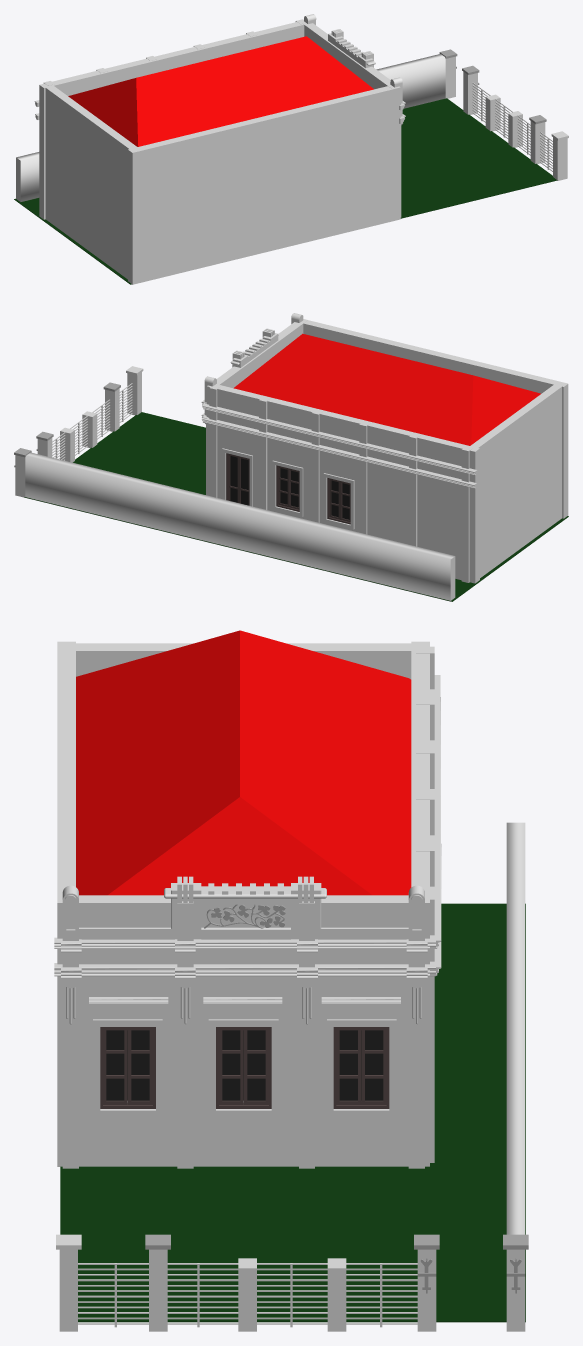
The model's file is direita_maçonaria.glb.
3 renders of one model, top to bottom at view 1: azimuth 30°, elevation 25°; view 2: azimuth 150°, elevation 25°; view 3: azimuth 270°, elevation 25°, orthographic. The views are drawn at different scales.
Parts seen in each view (by area): view 1: Cube.081, Cube.139, Cube.138, Cube.141, Cube.153, Cube.001, Cube; view 2: Cube.153, Cube.001, Cube.139, Cube.141, Cube.138, Cube.007, Cube.081, Cube.002, Cube, Cube.008, Cube.005, Cube.095 (+2 smaller); view 3: Cube.139, Cube.138, Cube, Cube.153, Cube.034, Cube.003, Cube.081, Cube.141, Cube.001, Cube.006, Cube.030, Cube.007 (+13 smaller).
Boxes of the visible parts, x1,y1,x2,y2 form: Cube.081: (128, 86, 392, 284); Cube.139: (68, 36, 373, 146); Cube.138: (14, 98, 557, 284); Cube.141: (41, 83, 139, 279); Cube.153: (16, 49, 568, 201); Cube.001: (39, 22, 304, 219); Cube: (303, 23, 400, 221); Cube.153: (14, 366, 455, 601); Cube.001: (217, 385, 479, 583); Cube.139: (233, 333, 540, 445); Cube.141: (469, 384, 561, 582); Cube.138: (24, 412, 568, 601); Cube.007: (209, 385, 472, 582); Cube.081: (303, 320, 568, 518); Cube.002: (222, 448, 354, 529); Cube: (206, 319, 307, 495); Cube.008: (202, 404, 477, 475); Cube.005: (202, 417, 476, 488); Cube.095: (230, 456, 248, 505); Cube.139: (76, 630, 411, 895); Cube.138: (60, 903, 525, 1322); Cube: (57, 895, 429, 1166); Cube.153: (56, 822, 528, 1331); Cube.034: (62, 982, 424, 1168); Cube.003: (93, 1019, 396, 1117); Cube.081: (57, 641, 75, 895); Cube.141: (66, 643, 429, 679); Cube.001: (411, 641, 429, 892); Cube.006: (54, 963, 435, 976); Cube.030: (54, 937, 435, 948); Cube.007: (416, 646, 434, 1162).
Size of the model in its own units: 21.76 by 7.83 by 10.19.
